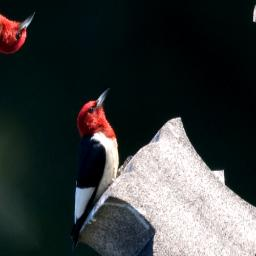Woodpecker: (12, 76, 166, 256)
